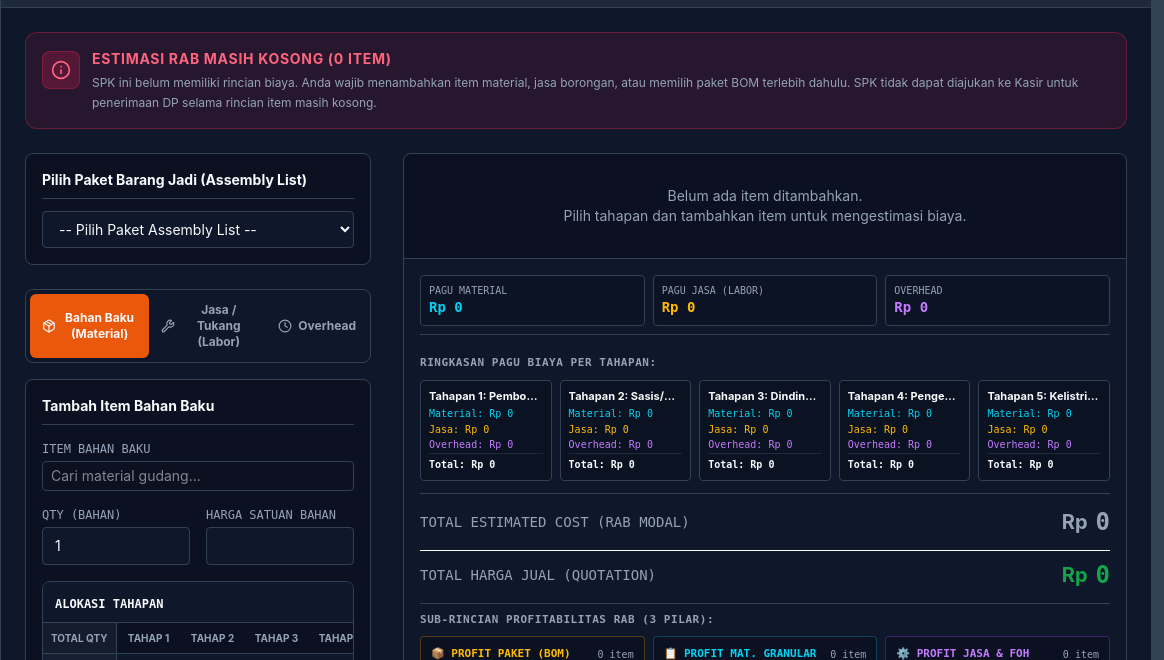
Scenario: Component: RabCalculator (Labor Entry & Pagu Jasa) › switches input form to dedicated labor mode when Jasa / Tukang (Labor) toggle is clicked
Expected: the text "Bahan Baku (Material)" is shown, [62,310,137,342]
Note: Click Jasa / Tukang (Labor) toggle
Step 1. Click the button "Jasa / Tukang (Labor)" → (209, 326), box [149,294,268,358]
(page scrolled)
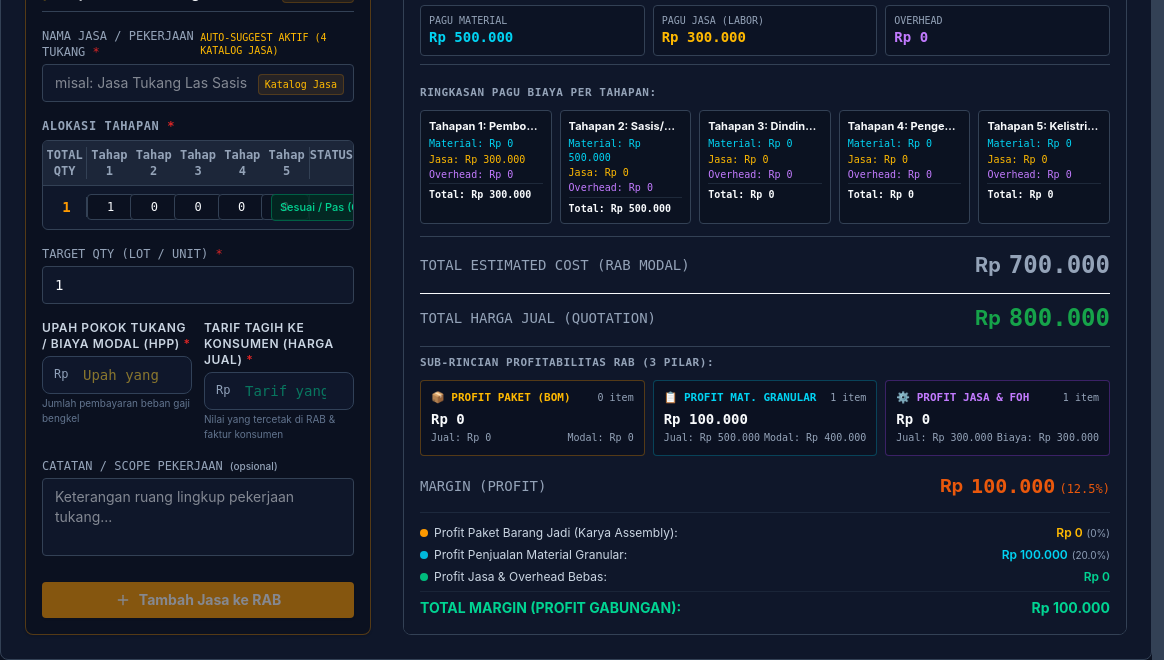
Now the text "Nama Jasa / Pekerjaan Tukang *" is shown, box [42,28,200,60]
Now the text "ALOKASI TAHAPAN *" is shown, box [42,119,175,133]
Now the text "Tahap 4" is shown, box [224,148,260,178]
